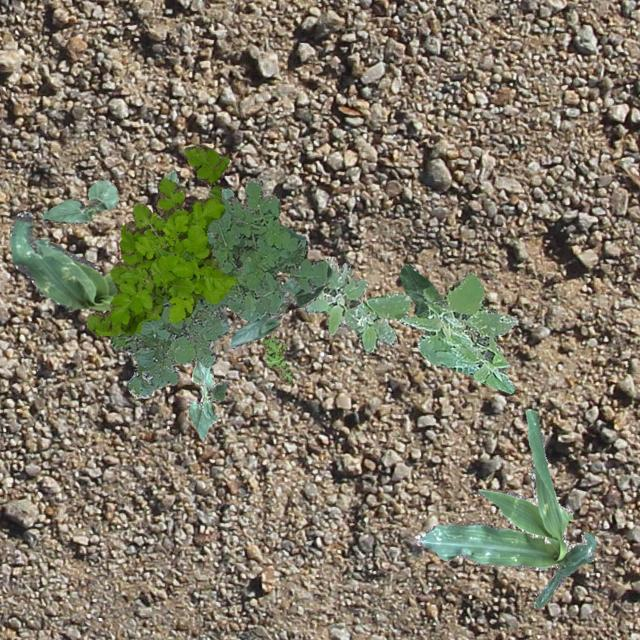crop: (414, 409, 596, 606), (9, 188, 232, 310), (230, 264, 330, 348), (42, 178, 118, 224), (188, 358, 228, 440), (398, 262, 432, 316), (164, 168, 178, 186)
weed: (108, 176, 326, 398), (86, 143, 236, 334), (362, 272, 516, 392), (304, 256, 396, 352), (262, 332, 292, 383)
